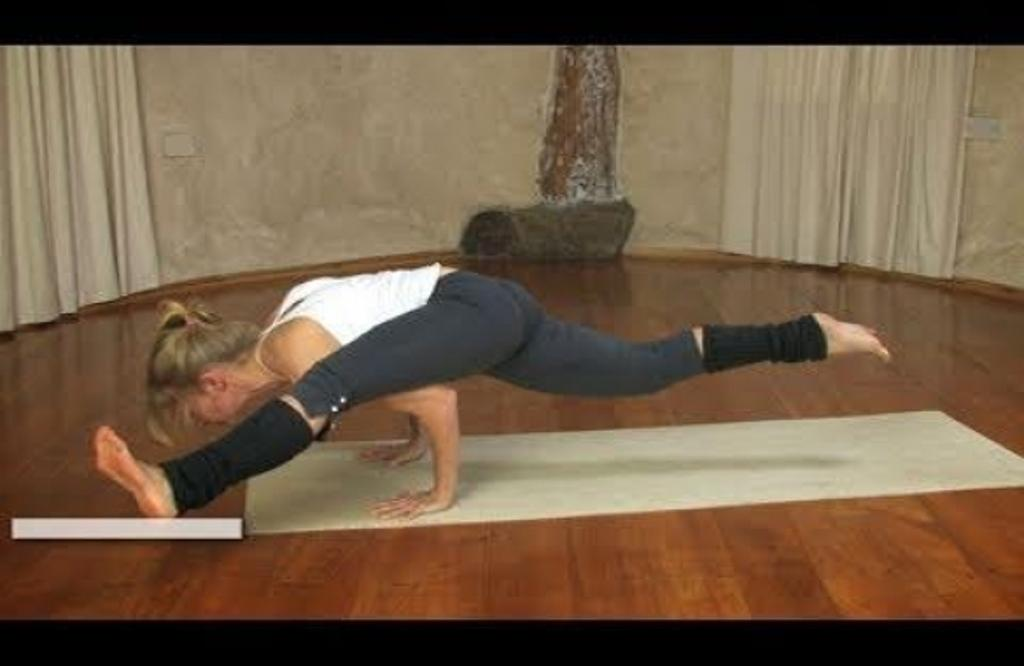face: (172, 372, 240, 438)
